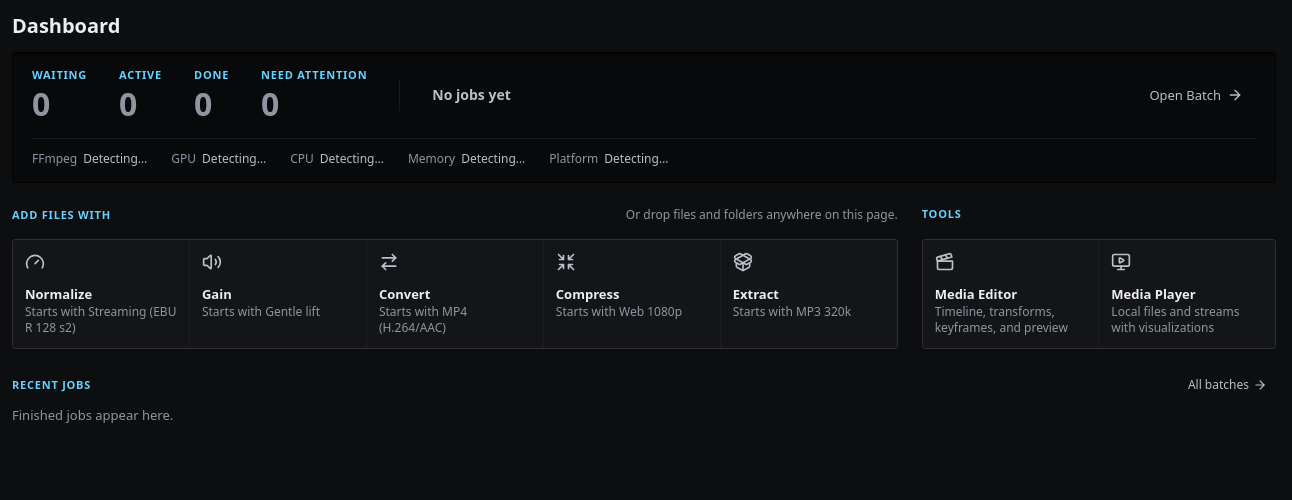
Dashboard › shows a refusal in a banner
Click the button with aria-label "Add files with Extract…": [809, 294] box x1=721 y1=240 x2=897 y2=348
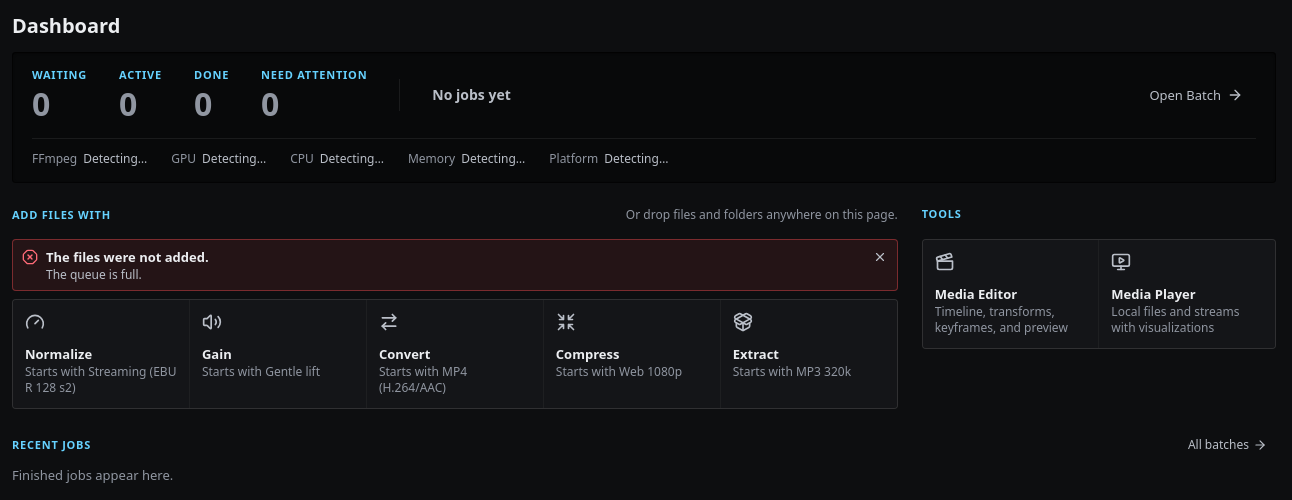
Check: the text "The queue is full." is shown, box x1=46 y1=266 x2=142 y2=283
Check: the text "The files were not added." is shown, box x1=46 y1=248 x2=209 y2=266
